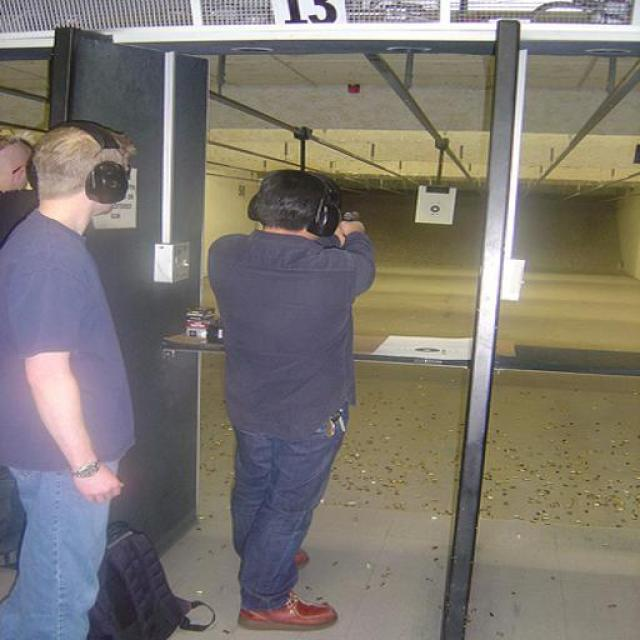pistol: (339, 206, 360, 227)
